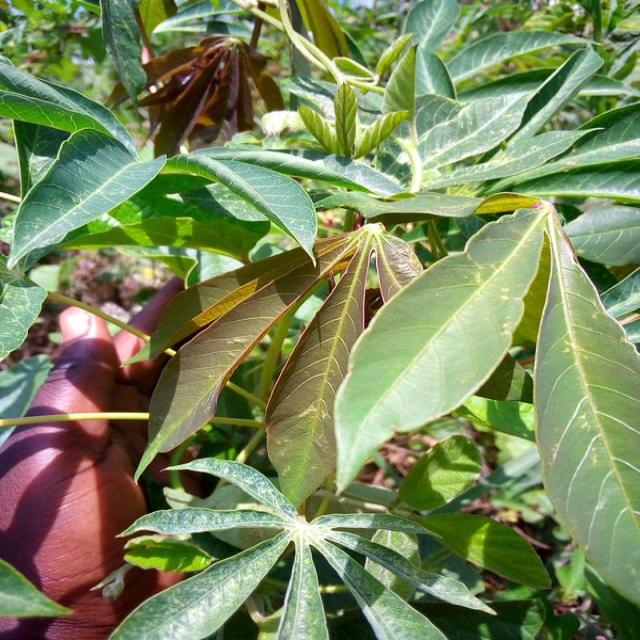cassava leaf: (1, 2, 638, 637), (331, 204, 549, 497), (531, 204, 639, 607)
